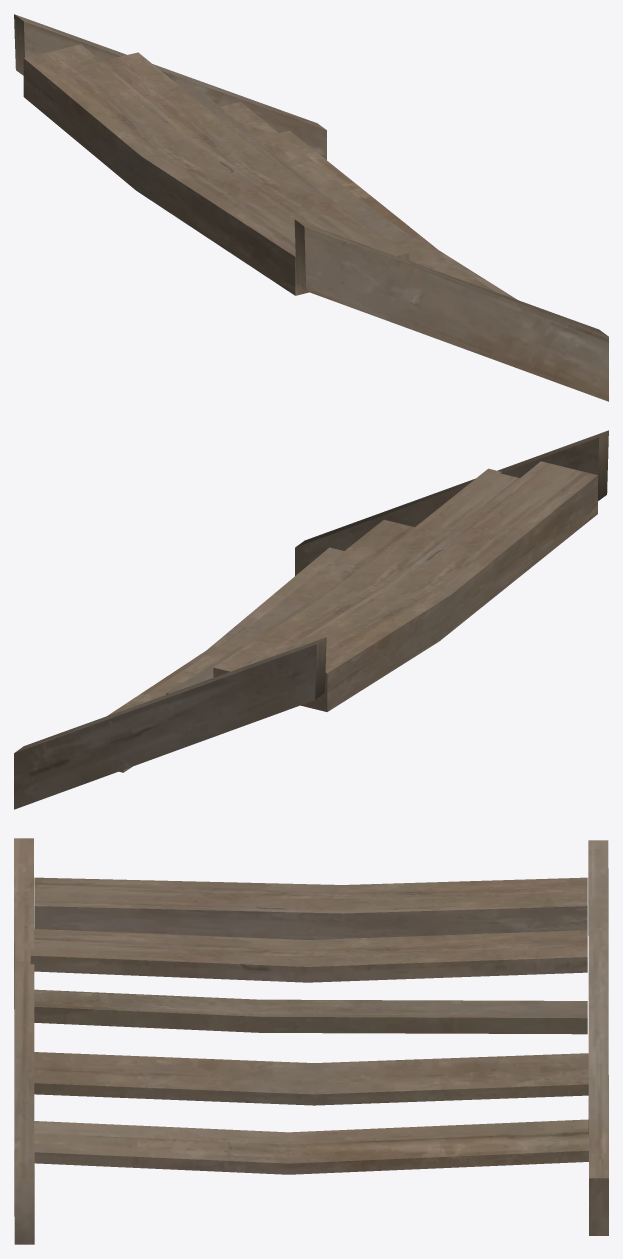
3 renders of one model, top to bottom at view 1: azimuth 30°, elevation 25°; view 2: azimuth 150°, elevation 25°; view 3: azimuth 270°, elevation 25°, orthographic. The views are drawn at different scales.
Parts seen in each view (by area): view 1: body0_model0_lod0_mesh0; view 2: body0_model0_lod0_mesh0; view 3: body0_model0_lod0_mesh0.
Part boxes in pixels (x1,y1,x2,y2): body0_model0_lod0_mesh0: (14, 14, 608, 401); body0_model0_lod0_mesh0: (14, 430, 608, 809); body0_model0_lod0_mesh0: (14, 838, 608, 1244).
Size of the model in its own units: 67.33 by 52.35 by 111.
Materials: 1 (1 with a texture image).
